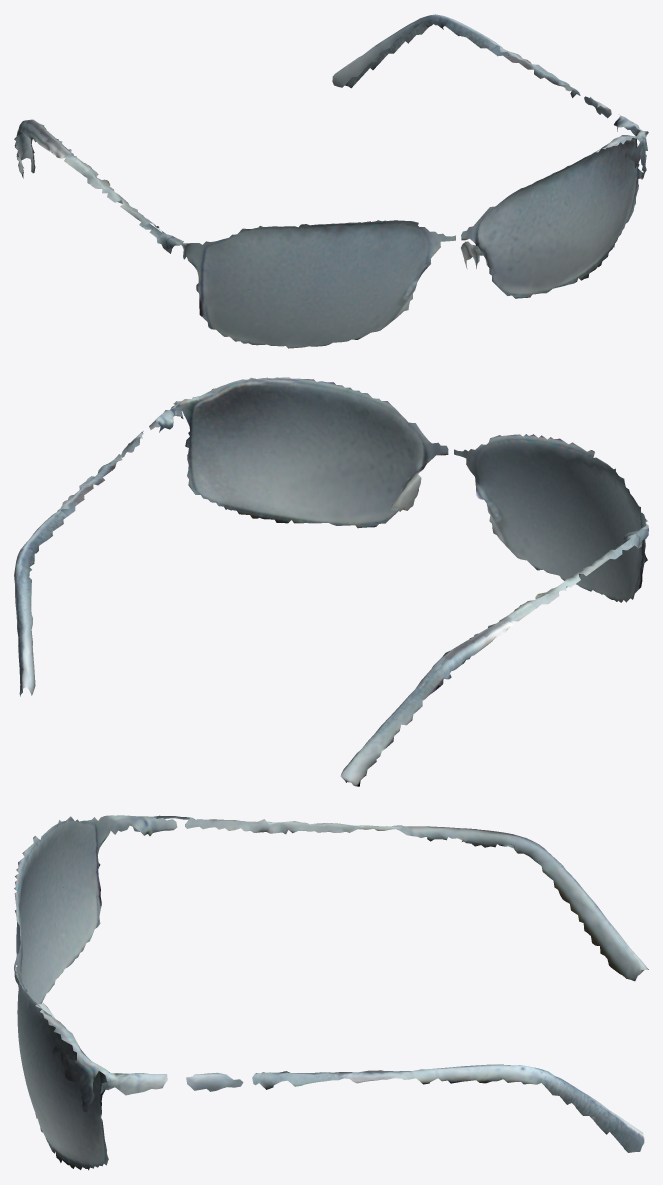
Rendered from scan_align.obj.
3 renders of one model, top to bottom at view 1: azimuth 30°, elevation 25°; view 2: azimuth 150°, elevation 25°; view 3: azimuth 270°, elevation 25°, orthographic. The views are drawn at different scales.
Bounding box in the file's own units: 0.1449 × 0.0394 × 0.1441.
1 material, 1 textured.
